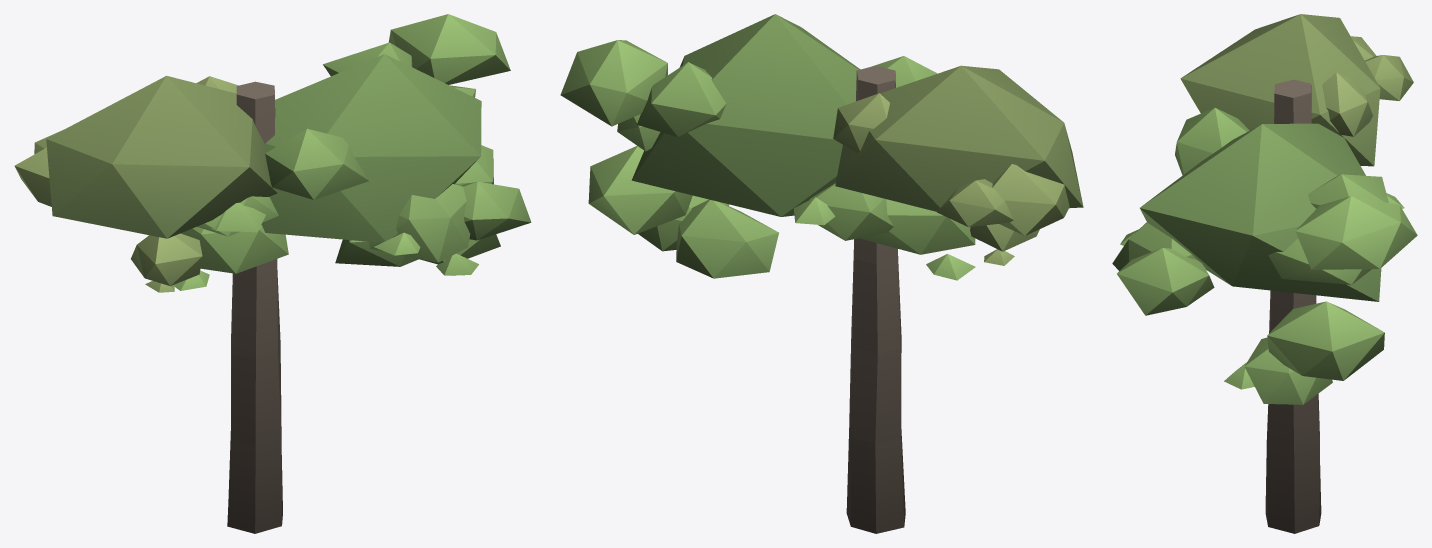
File: env_tree_young_01.glb
The picture shows the model from 3 angles, left to right: view 1: azimuth 30°, elevation 25°; view 2: azimuth 150°, elevation 25°; view 3: azimuth 270°, elevation 25°; orthographic projection. The views are drawn at different scales.
Visible parts, largest first — view 1: tree_young_01; view 2: tree_young_01; view 3: tree_young_01.
Part boxes in pixels (x1=…): tree_young_01: x1=14, y1=14, x2=531, y2=533; tree_young_01: x1=560, y1=14, x2=1083, y2=533; tree_young_01: x1=1112, y1=14, x2=1417, y2=533.
Bounding box in the file's own units: 2.3 × 2.15 × 1.28.
